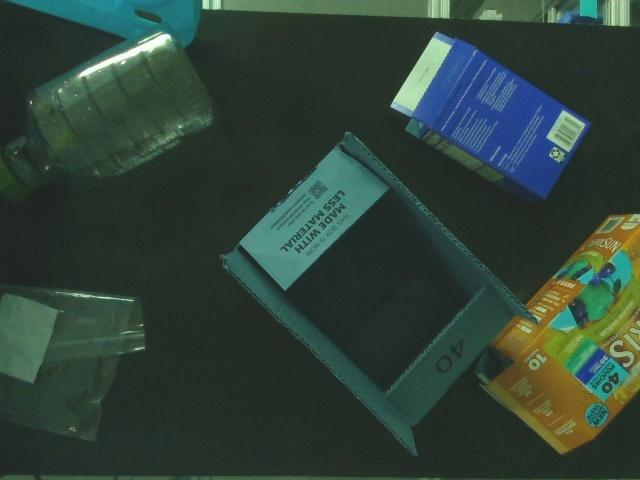cardboard: (214, 129, 544, 460), (470, 210, 640, 460), (386, 27, 598, 211)
plastic: (0, 21, 220, 207), (0, 280, 150, 448)
